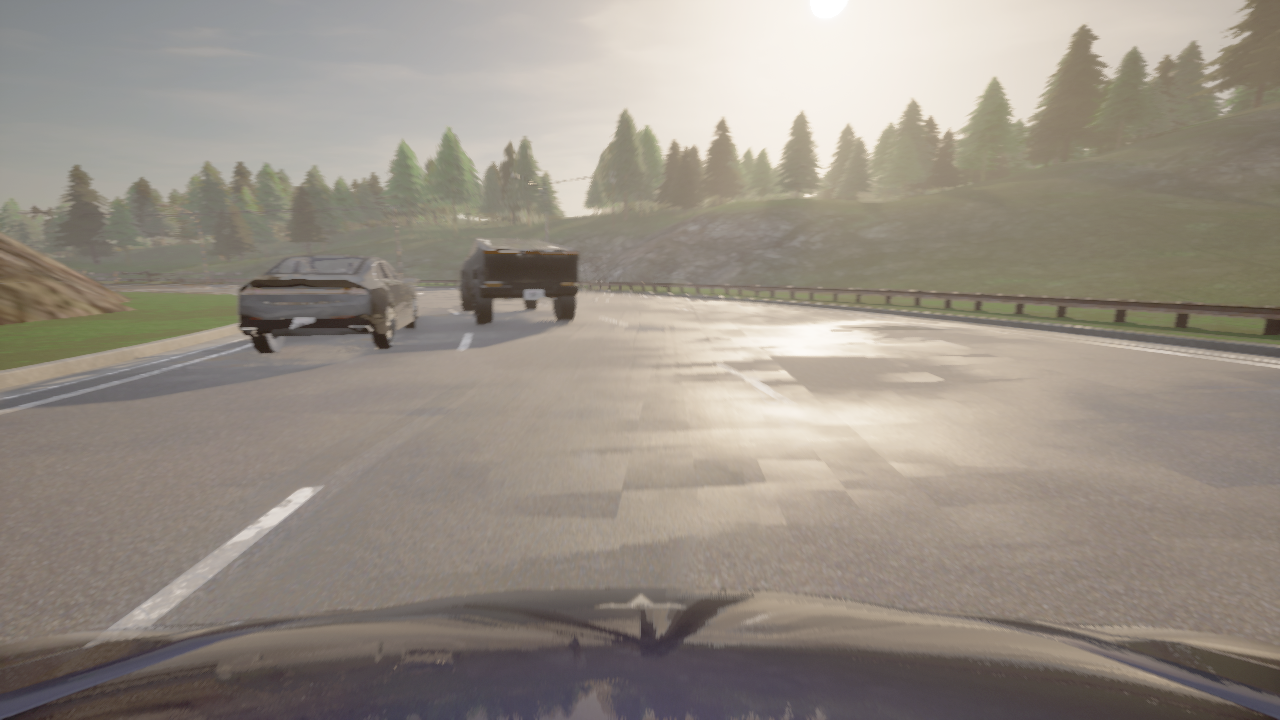cyclist: (0, 588, 1279, 719), (237, 255, 418, 354), (459, 239, 578, 324)
